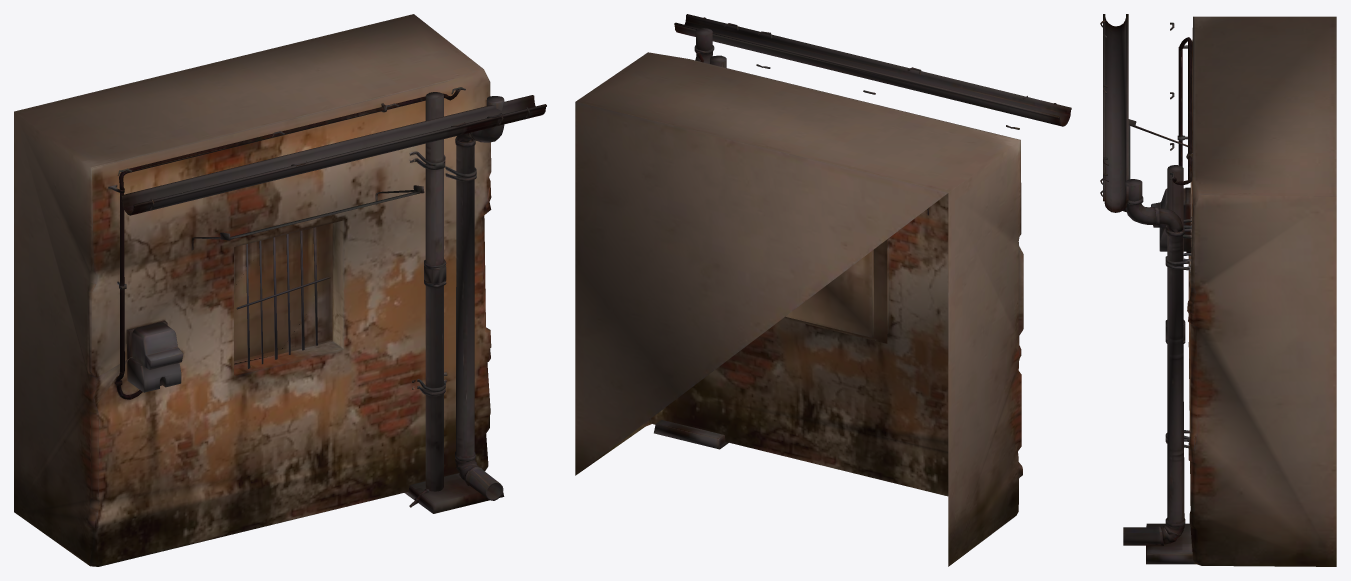
The model's file is javaporcos_mint_fundo_casa.glb.
The picture shows the model from 3 angles, left to right: view 1: azimuth 30°, elevation 25°; view 2: azimuth 150°, elevation 25°; view 3: azimuth 270°, elevation 25°; orthographic projection. The views are drawn at different scales.
Visible parts, largest first — view 1: Fundo de casa do beco; view 2: Fundo de casa do beco; view 3: Fundo de casa do beco.
Boxes of the visible parts, bbox=[...] form: Fundo de casa do beco: bbox=[14, 14, 546, 566]; Fundo de casa do beco: bbox=[575, 14, 1071, 566]; Fundo de casa do beco: bbox=[1100, 14, 1336, 566].
Bounding box in the file's own units: 4.25 × 4 × 2.29.
Materials: 1 (1 with a texture image).
